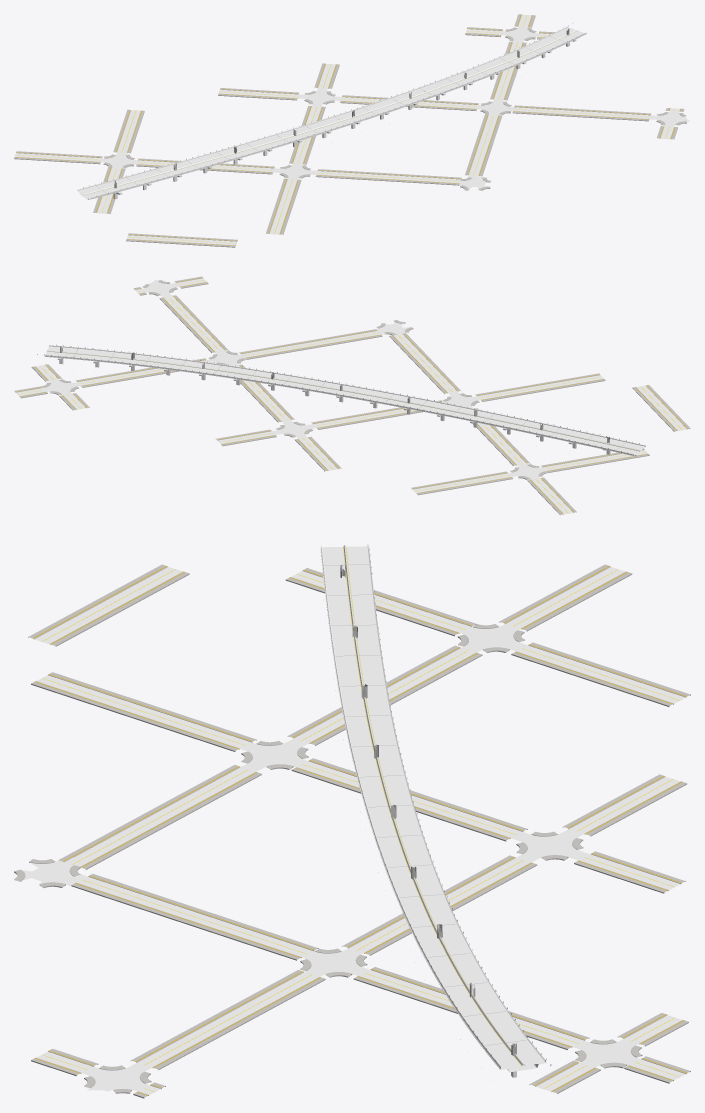
Rendered from roads_0_3.gltf.
The picture shows the model from 3 angles, top to bottom: view 1: azimuth 30°, elevation 25°; view 2: azimuth 150°, elevation 25°; view 3: azimuth 270°, elevation 25°; orthographic projection. The views are drawn at different scales.
Visible parts, largest first — view 1: roads_0_3_SH_wet_asphalt, roads_0_3_SH_sidewalk, roads_0_3_SH_concrete_pier, roads_0_3_SH_concrete_barrier, roads_0_3_Road_Tactile_Strip, roads_0_3_SH_kerb, roads_0_3_SH_road_marking_white, roads_0_3_SH_road_marking_yellow; view 2: roads_0_3_SH_wet_asphalt, roads_0_3_SH_sidewalk, roads_0_3_SH_concrete_pier, roads_0_3_SH_concrete_barrier, roads_0_3_Road_Tactile_Strip, roads_0_3_SH_kerb, roads_0_3_SH_road_marking_white, roads_0_3_SH_road_marking_yellow; view 3: roads_0_3_SH_wet_asphalt, roads_0_3_SH_sidewalk, roads_0_3_SH_concrete_pier, roads_0_3_Road_Tactile_Strip, roads_0_3_SH_kerb, roads_0_3_SH_road_marking_white, roads_0_3_SH_concrete_barrier, roads_0_3_SH_road_marking_yellow, roads_0_3_planter_row_inner_ring.
Boxes of the visible parts, x1,y1,x2,y2 form: roads_0_3_SH_wet_asphalt: (14,14,690,245); roads_0_3_SH_sidewalk: (14,14,686,247); roads_0_3_SH_concrete_pier: (77,27,586,199); roads_0_3_SH_concrete_barrier: (77,26,586,199); roads_0_3_Road_Tactile_Strip: (14,14,681,245); roads_0_3_SH_kerb: (16,14,686,245); roads_0_3_SH_road_marking_white: (16,15,679,241); roads_0_3_SH_road_marking_yellow: (15,15,675,243); roads_0_3_SH_wet_asphalt: (16,278,686,514); roads_0_3_SH_sidewalk: (14,276,690,514); roads_0_3_SH_concrete_pier: (45,346,644,455); roads_0_3_SH_concrete_barrier: (44,345,645,455); roads_0_3_Road_Tactile_Strip: (15,277,687,514); roads_0_3_SH_kerb: (15,278,687,514); roads_0_3_SH_road_marking_white: (17,278,686,513); roads_0_3_SH_road_marking_yellow: (21,280,682,513); roads_0_3_SH_wet_asphalt: (21,546,685,1094); roads_0_3_SH_sidewalk: (14,564,690,1098); roads_0_3_SH_concrete_pier: (320,546,546,1077); roads_0_3_Road_Tactile_Strip: (32,566,686,1095); roads_0_3_SH_kerb: (20,566,686,1095); roads_0_3_SH_road_marking_white: (35,546,685,1091); roads_0_3_SH_concrete_barrier: (321,544,545,1069); roads_0_3_SH_road_marking_yellow: (42,547,679,1092); roads_0_3_planter_row_inner_ring: (321,551,544,1066).
Size of what is drawn, in the model's own units: 529 by 16.45 by 284.
